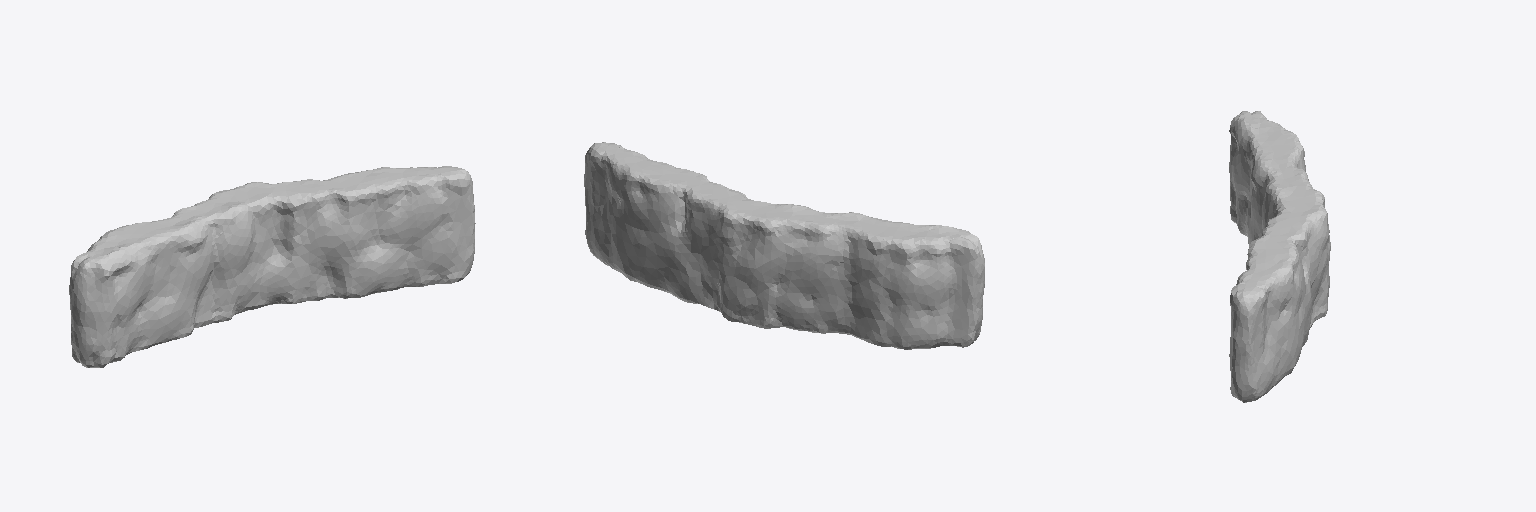
Rendered from sewer_wall.obj.
The picture shows the model from 3 angles: view 1: azimuth 30°, elevation 25°; view 2: azimuth 150°, elevation 25°; view 3: azimuth 270°, elevation 25°; orthographic projection.
Visible parts, largest first — view 1: CaveWalls_3; view 2: CaveWalls_3; view 3: CaveWalls_3.
Part boxes in pixels (bbox=[...]): CaveWalls_3: bbox=[69, 166, 475, 367]; CaveWalls_3: bbox=[584, 142, 984, 349]; CaveWalls_3: bbox=[1229, 111, 1330, 402].
Bounding box in the file's own units: 131 × 35.01 × 28.81.